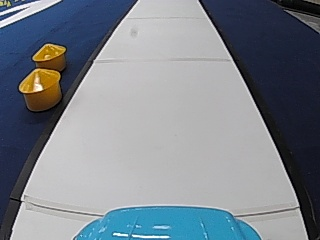granary: (16, 66, 62, 111), (30, 42, 67, 70)
